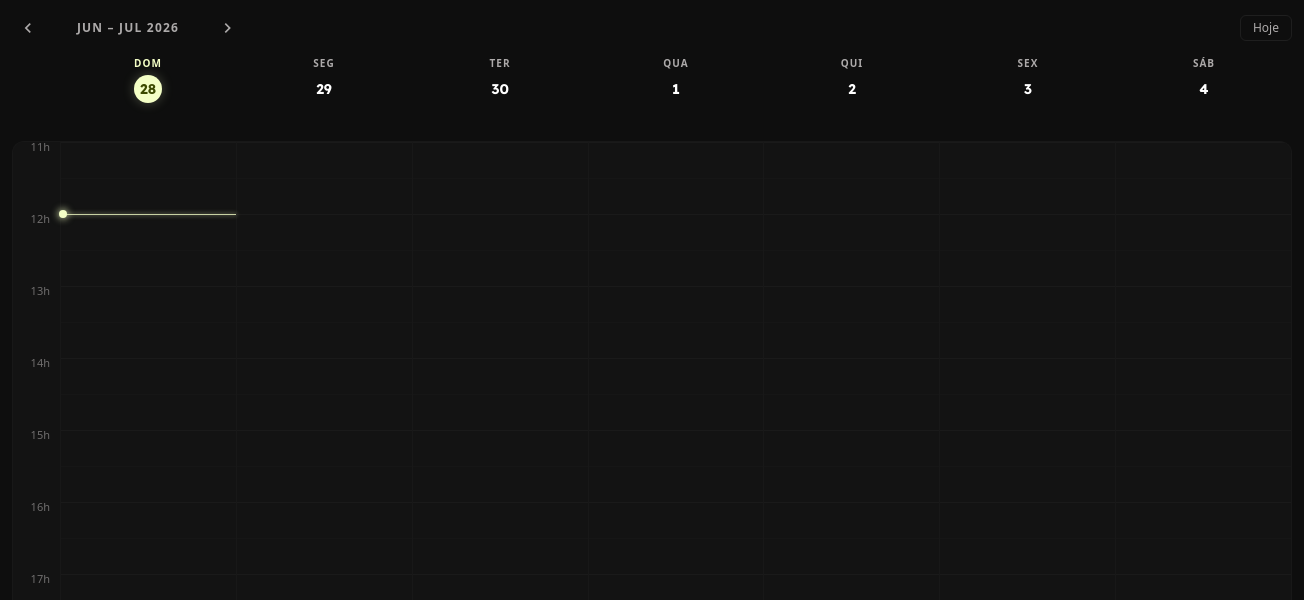
ScheduleCalendar › navegação semanal desktop › volta o rótulo de semana ao clicar em "Semana anterior"
This screenshot has width=1304, height=600.
(page scrolled)
Step 1. Click the button named "Semana anterior" → click(28, 28), box [12,12,44,44]
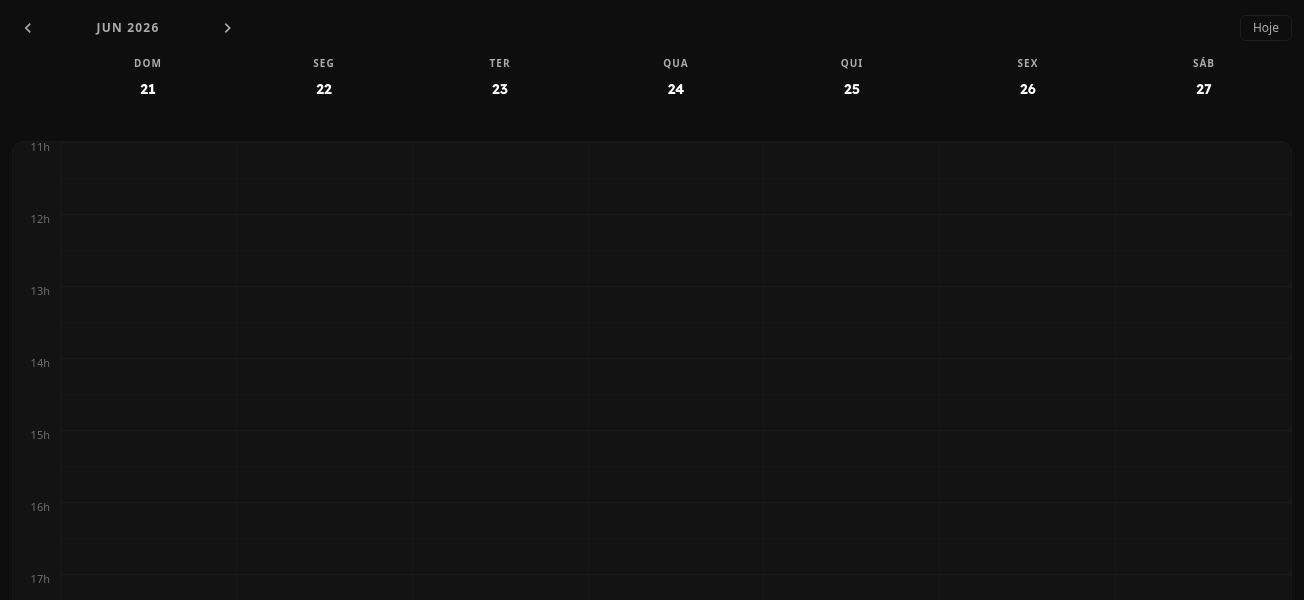
Expected: the text "jun 2026" is shown, [96,19,160,36]
